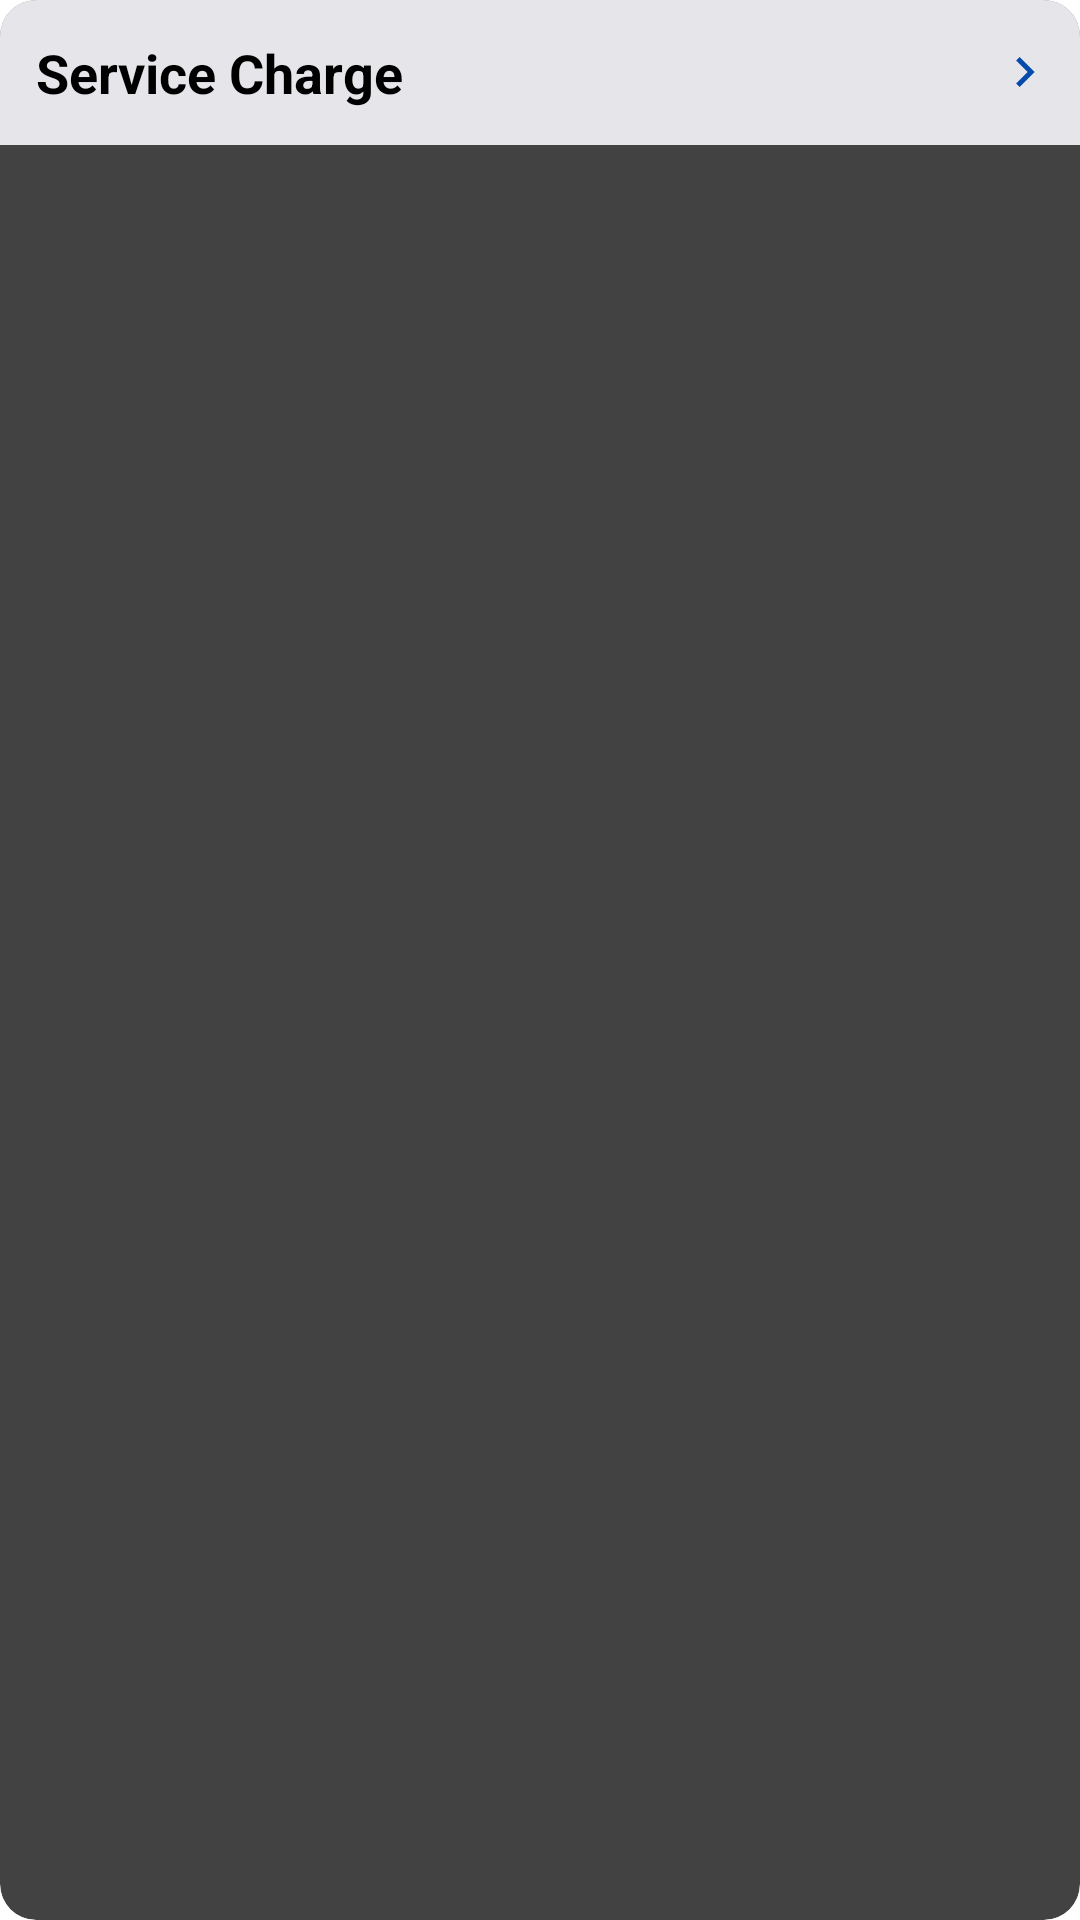

Where to tap for icons on this 1080px×1920px app screen, as (x,y):
rarrow: (1025,72)
